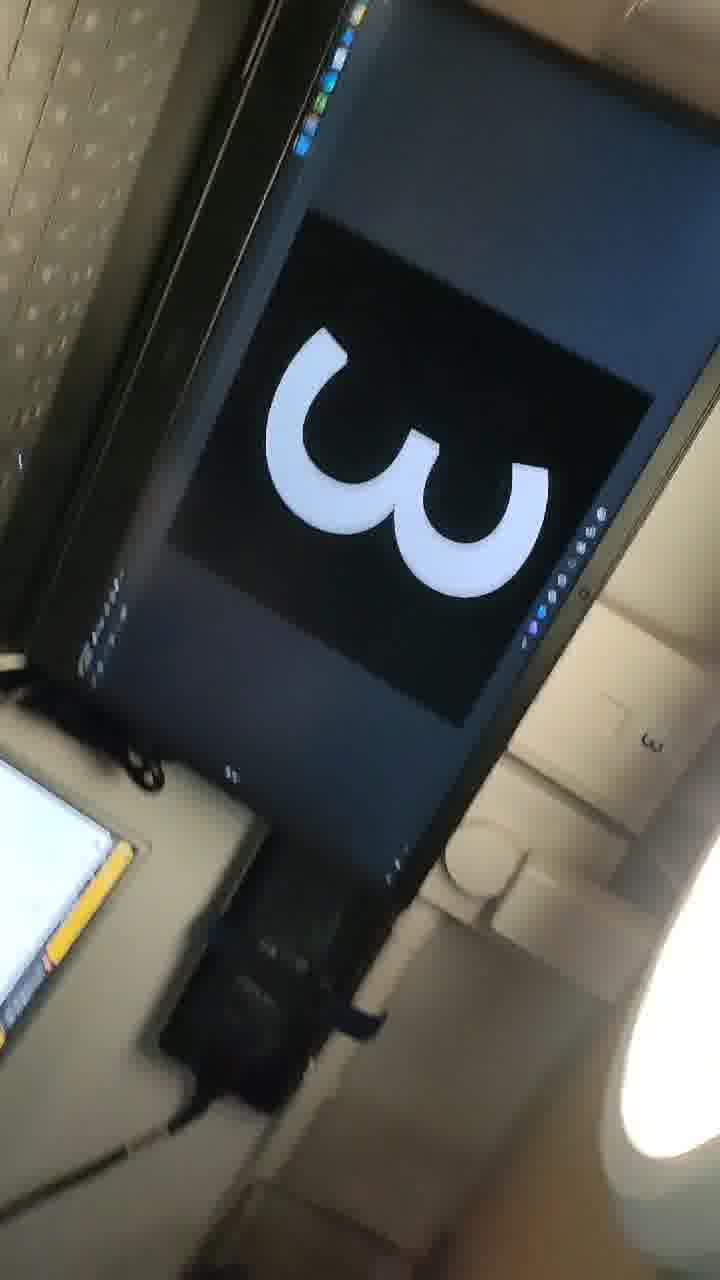three: (202, 236, 586, 626)
